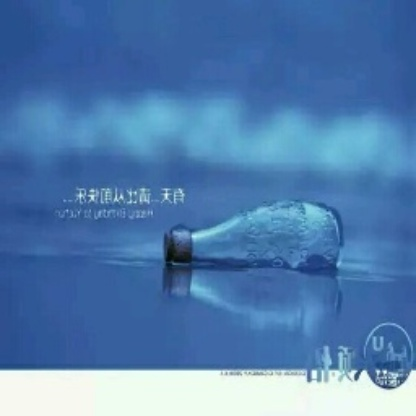bottle: (159, 200, 346, 276)
